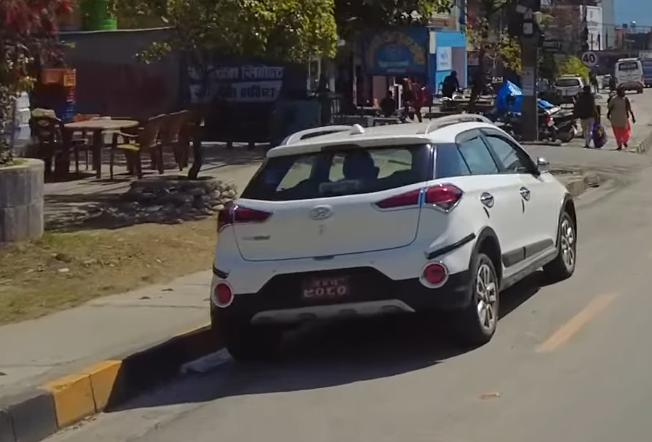bus: (614, 55, 647, 96)
car: (218, 111, 576, 354)
